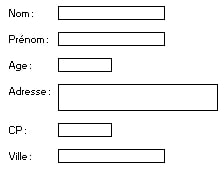input: (54, 81, 221, 114), (54, 29, 171, 51), (54, 146, 169, 166), (52, 4, 170, 22), (54, 120, 117, 142), (54, 56, 117, 76)
text: (4, 81, 52, 102), (4, 32, 51, 48), (4, 147, 37, 166), (4, 5, 39, 21), (4, 57, 39, 73), (2, 119, 29, 138)
